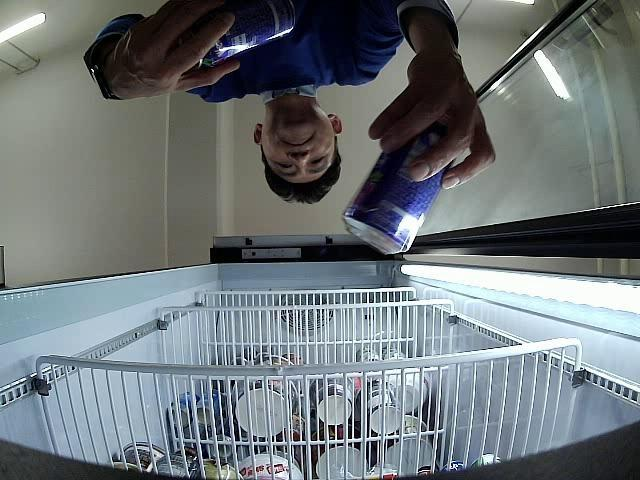14_welchsGrape: (343, 120, 457, 253), (198, 0, 298, 67)
